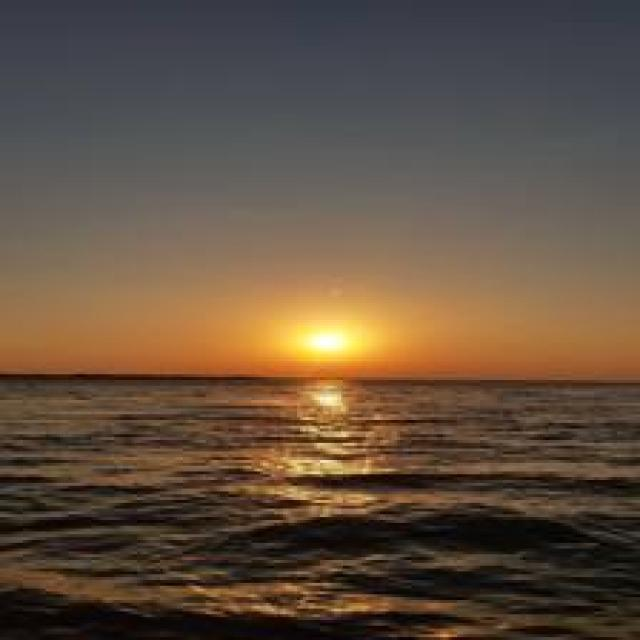sun: (304, 330, 349, 354)
